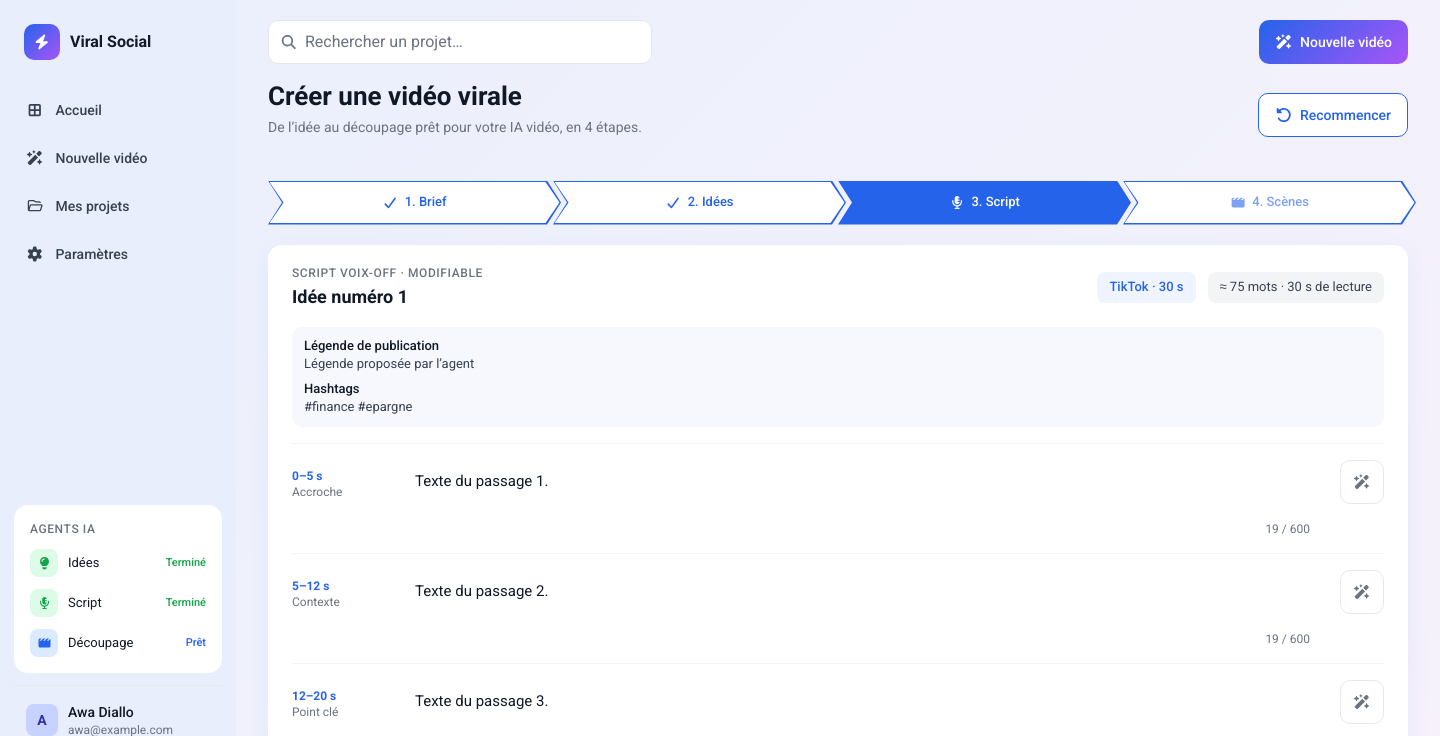
Test: ProjectWizard › rg11 ne relance rien si l’utilisateur annule la confirmation
Click the button "2. Idées".
click(700, 202)  # box [554, 182, 844, 223]
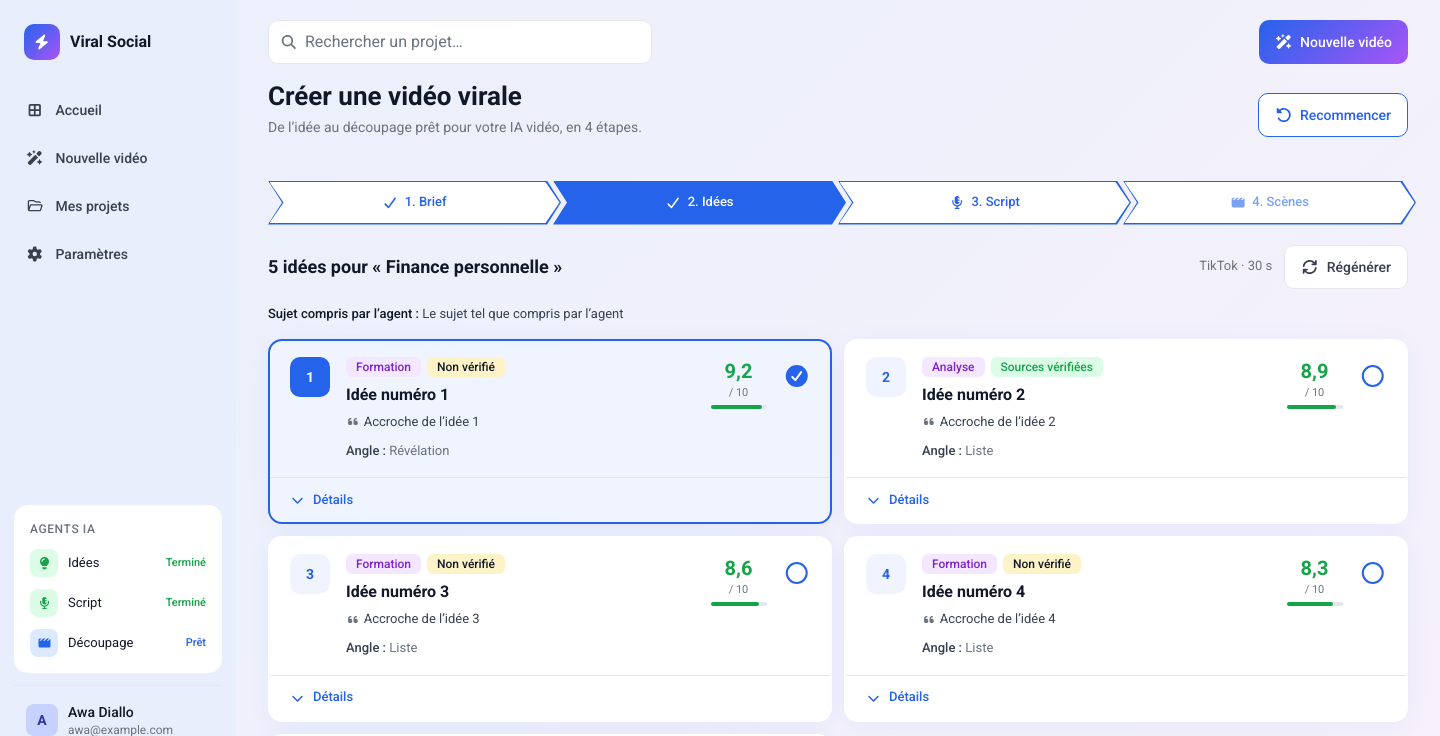
Click the button "Régénérer".
click(1346, 266)  # box [1284, 244, 1408, 288]
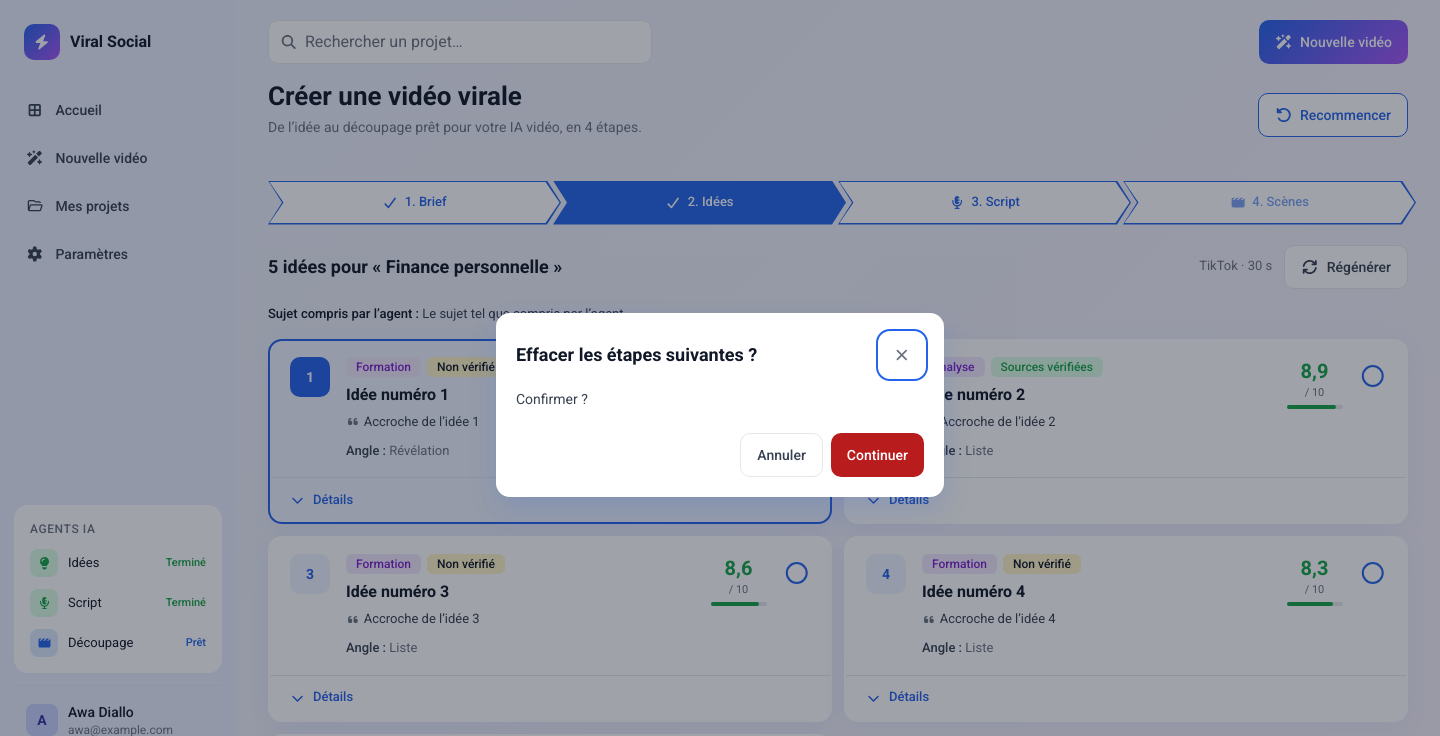
Click the button "Annuler".
click(782, 455)  # box [740, 433, 823, 477]
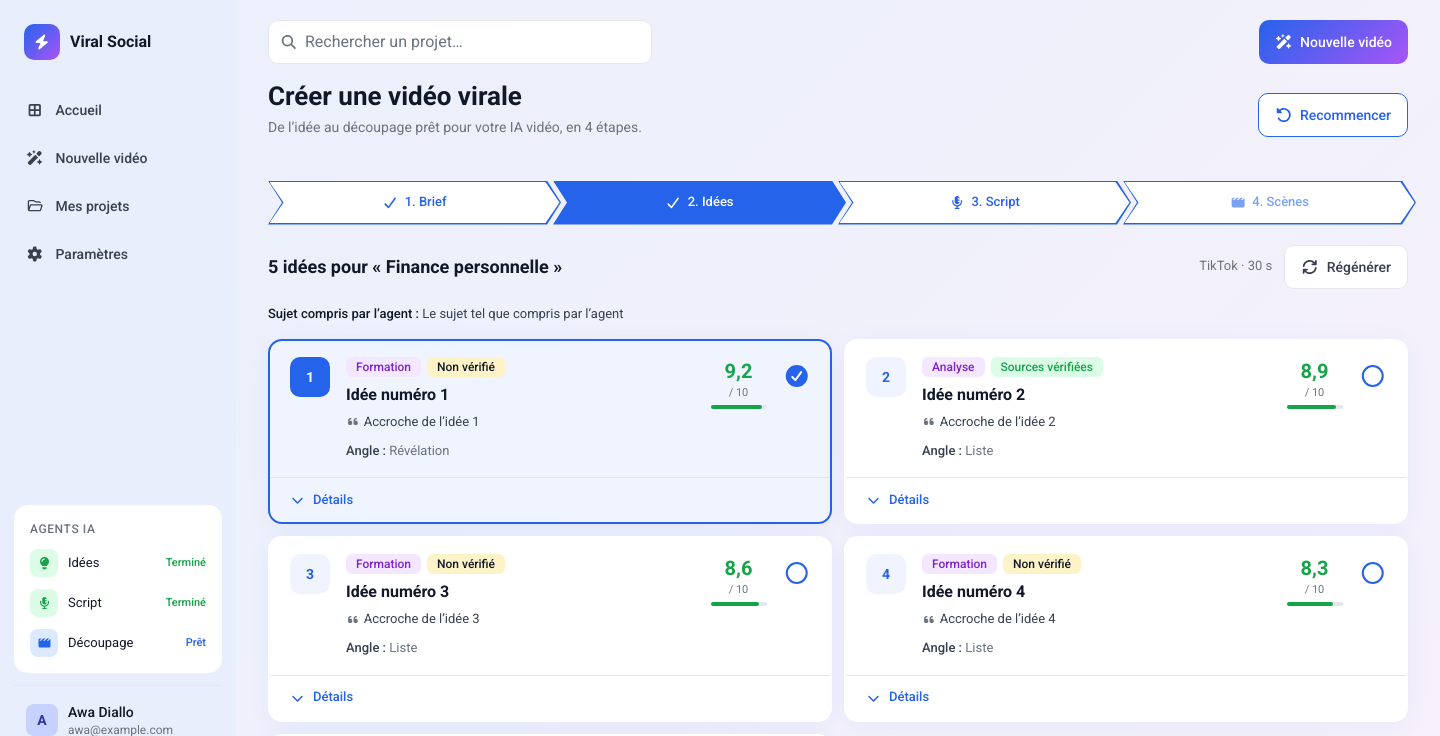
Now the dialog is gone
